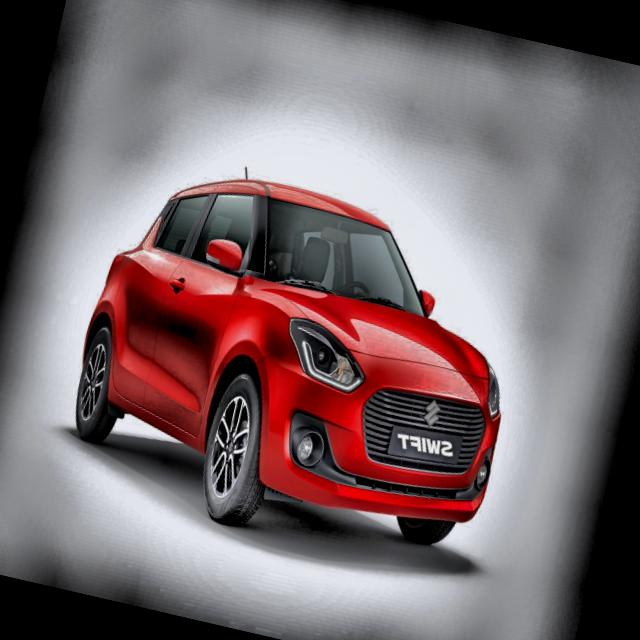Car: (52, 150, 542, 580)
